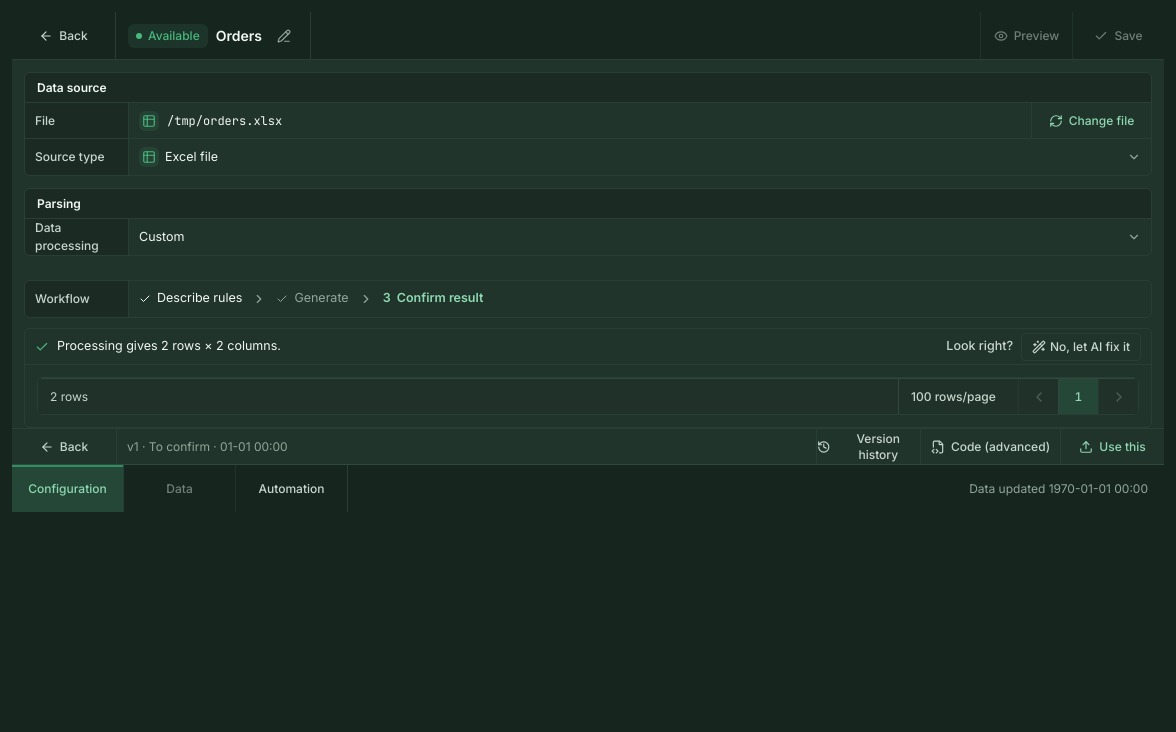
RawTableEditorWorkbench custom draft persistence › 确认结果 opens on the output table and 确认使用 publishes and applies it
expect the text "Look right?" is shown: met, box [946, 337, 1013, 356]
expect the text with test id "raw-result-explain" shows "2 rows × 2 columns": met, box [57, 338, 281, 353]
Click the button with test id "raw-customize-publish".
click(1112, 446)  # box [1060, 429, 1164, 464]
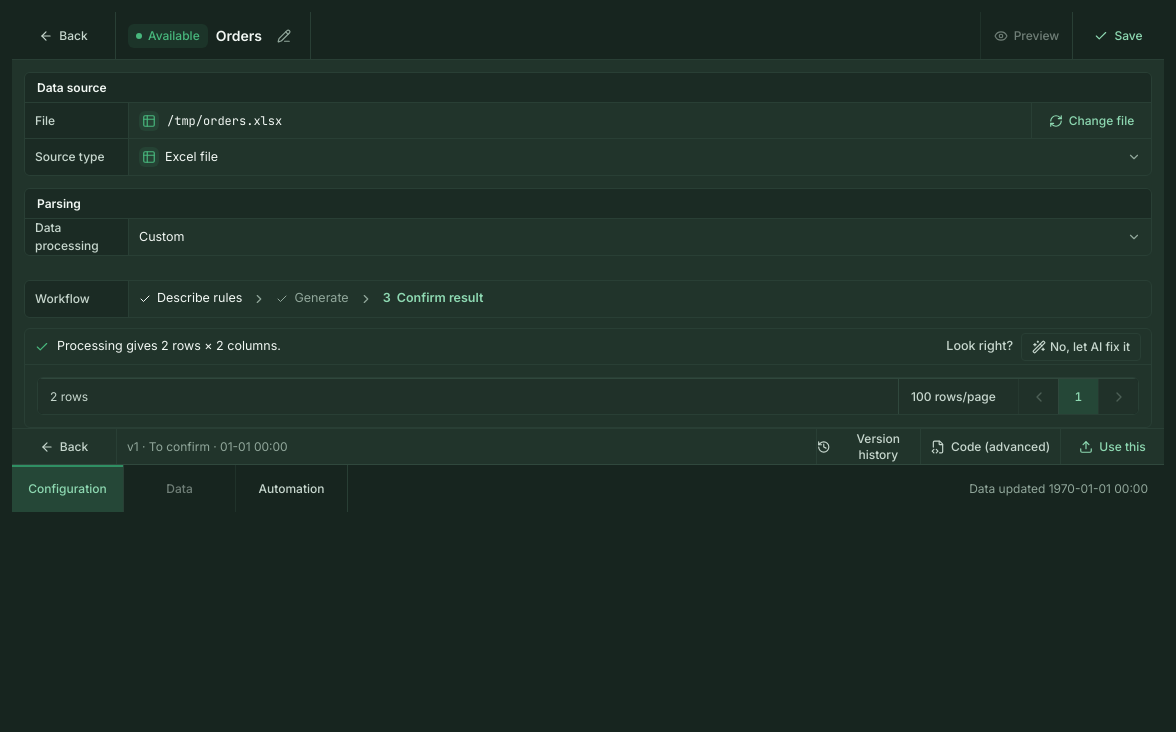
// Code stays one click away under 高级.
Click the button with test id "raw-customize-toggle-code".
click(990, 446)  # box [920, 429, 1060, 464]
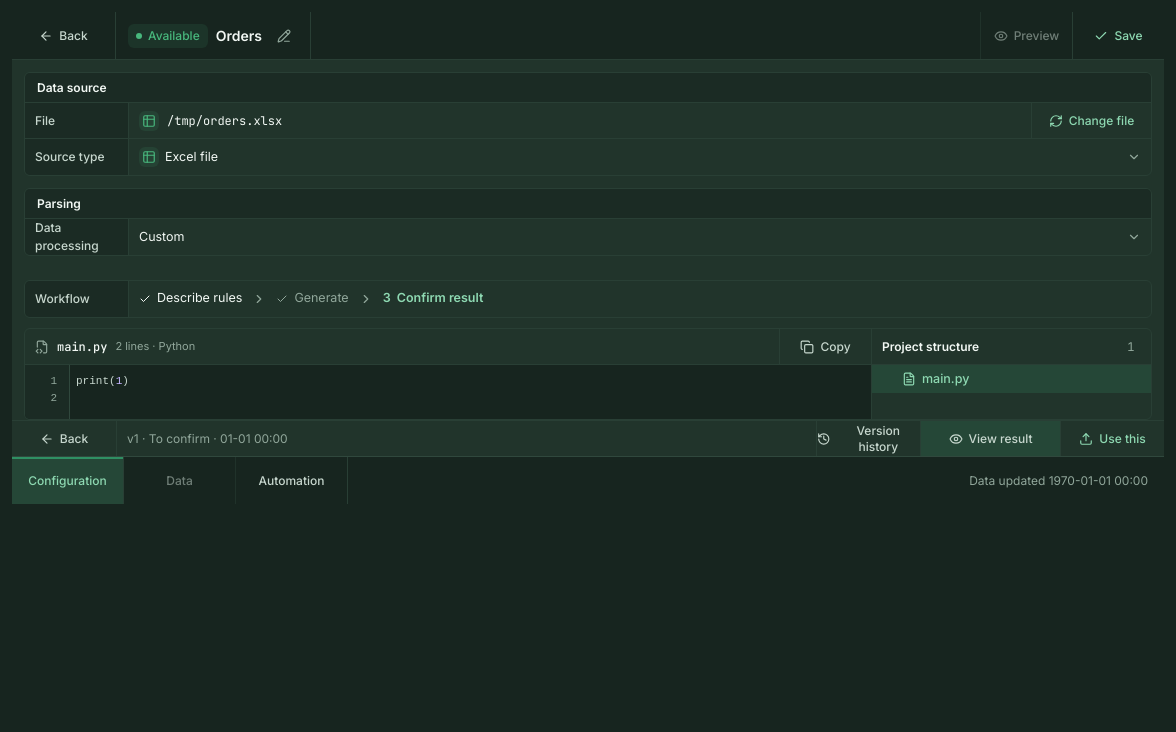
expect the element with test id "raw-customize-review" is shown: met, box [25, 329, 1151, 419]
